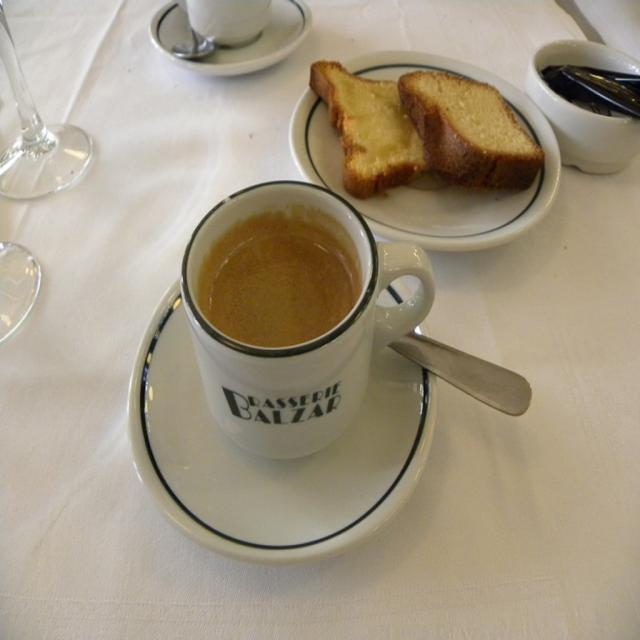Tea: (199, 202, 363, 346)
